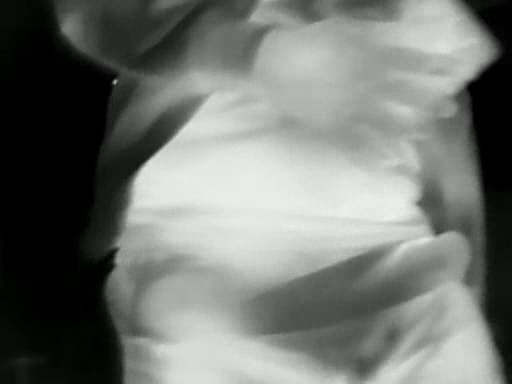chest: (132, 0, 432, 258)
